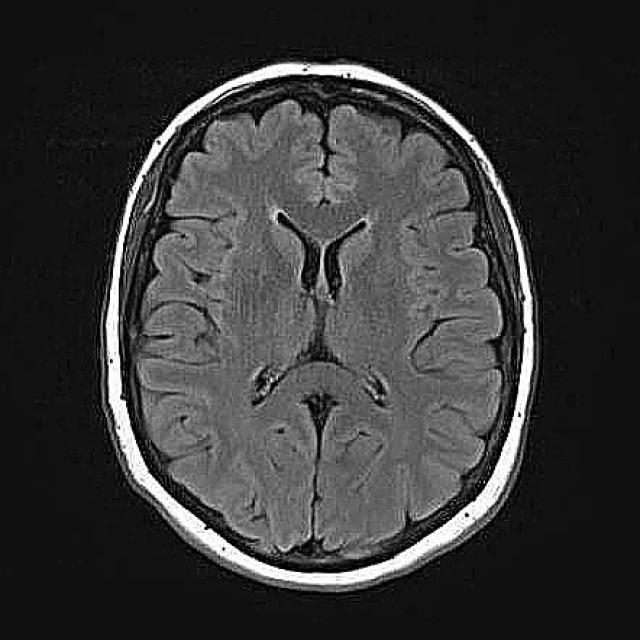notumor: (100, 64, 539, 594)
